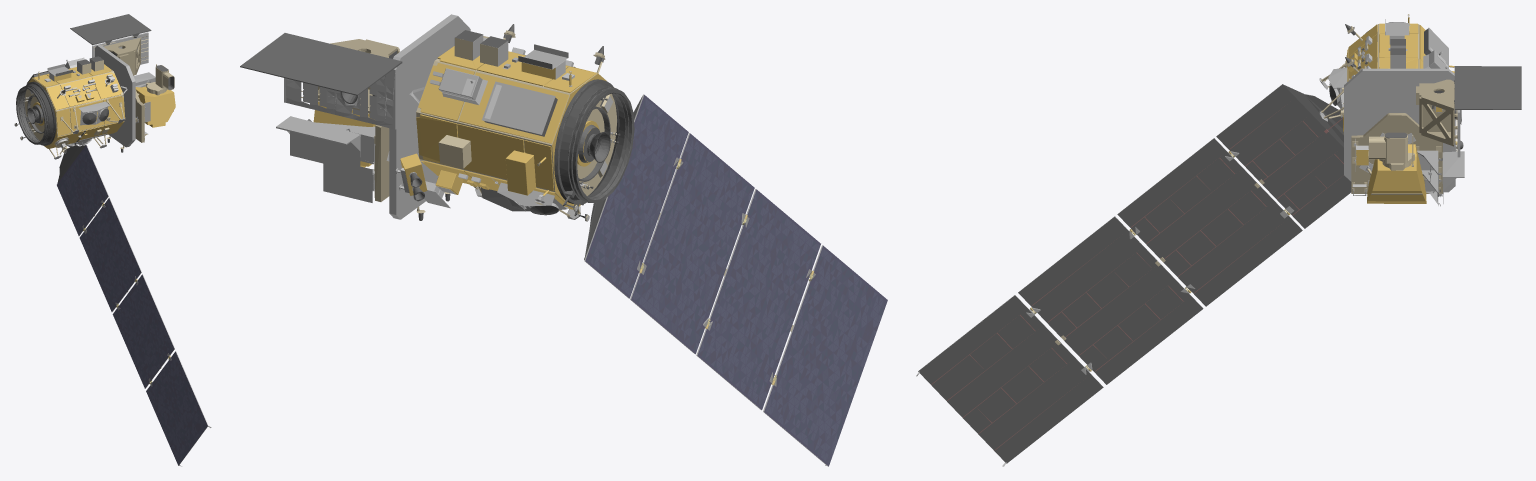
The model's file is landsat8.glb.
The picture shows the model from 3 angles, left to right: view 1: azimuth 30°, elevation 25°; view 2: azimuth 150°, elevation 25°; view 3: azimuth 270°, elevation 25°; orthographic projection. The views are drawn at different scales.
Parts seen in each view (by area): view 1: Layer_0; view 2: Layer_0; view 3: Layer_0.
Part boxes in pixels (bbox=[...]): Layer_0: bbox=[14, 14, 211, 466]; Layer_0: bbox=[240, 14, 887, 466]; Layer_0: bbox=[916, 14, 1521, 466].
Size of the model in its own units: 4.97 by 10.02 by 12.25.
